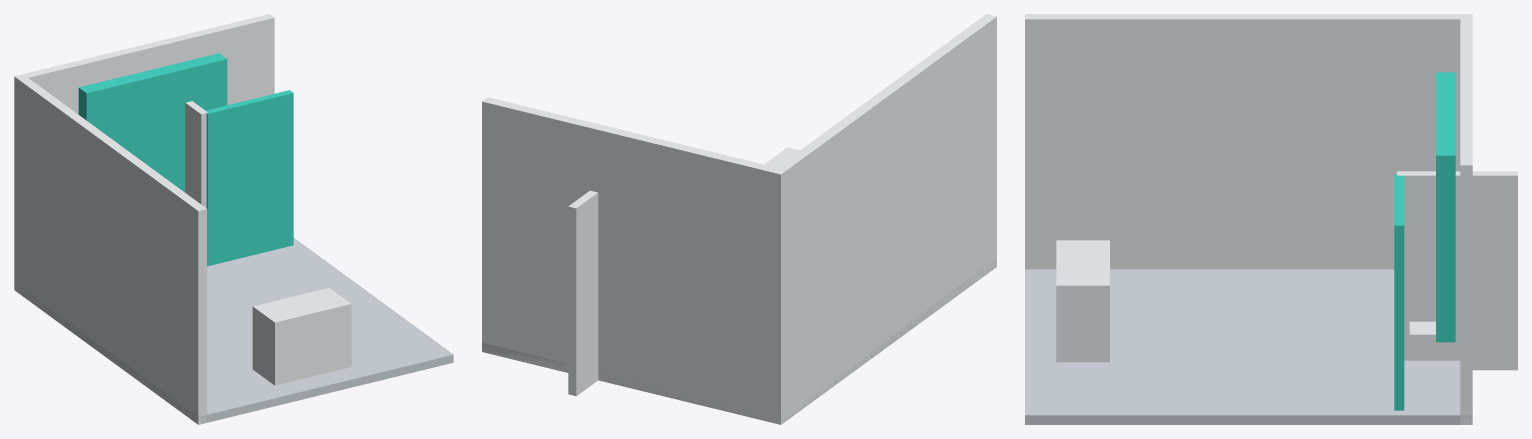
3 views of the same model, side by side, from view 1: azimuth 30°, elevation 25°; view 2: azimuth 150°, elevation 25°; view 3: azimuth 270°, elevation 25° (orthographic). The views are drawn at different scales.
Parts seen in each view (by area): view 1: Exhibition Booth Concept; view 2: Exhibition Booth Concept; view 3: Exhibition Booth Concept.
Boxes of the visible parts, x1,y1,x2,y2 form: Exhibition Booth Concept: (14, 14, 453, 424); Exhibition Booth Concept: (482, 14, 996, 424); Exhibition Booth Concept: (1025, 14, 1517, 424).
Size of the model in its own units: 4 by 3.2 by 5.51.
